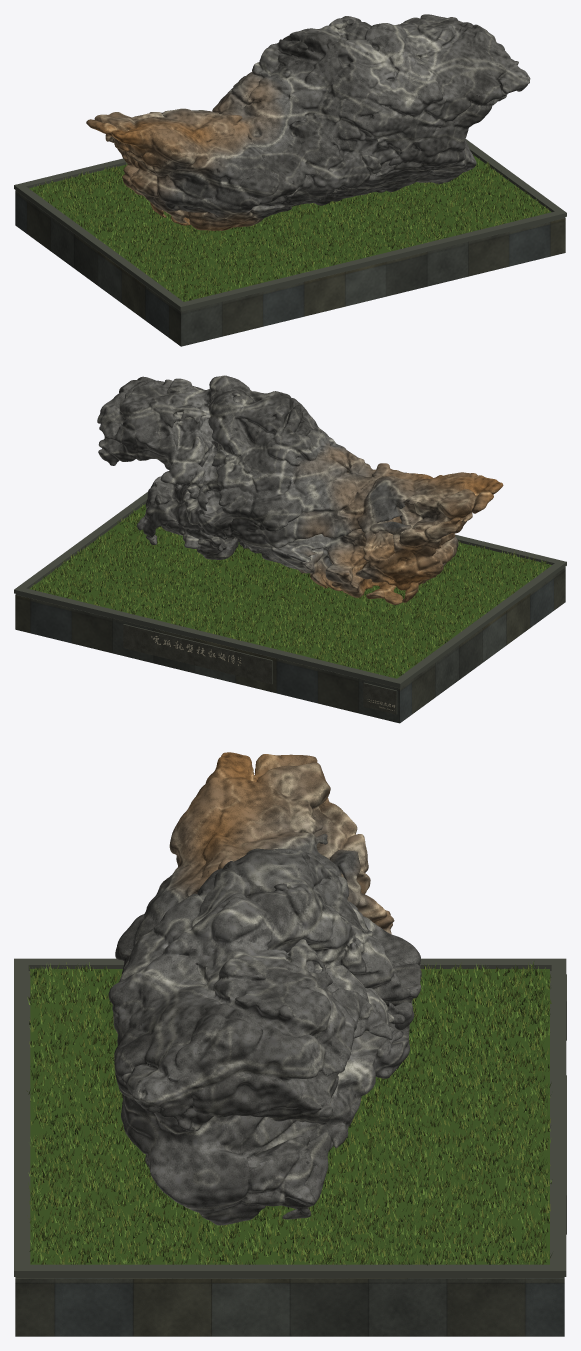
The model's file is landmark.glb.
3 renders of one model, top to bottom at view 1: azimuth 30°, elevation 25°; view 2: azimuth 150°, elevation 25°; view 3: azimuth 270°, elevation 25°, orthographic. The views are drawn at different scales.
Parts seen in each view (by area): view 1: site.taihu.rock, site.taihu.plinth, site.taihu.turf; view 2: site.taihu.plinth, site.taihu.rock, site.taihu.turf, site.taihu.inscription; view 3: site.taihu.plinth, site.taihu.rock, site.taihu.turf.
Boxes of the visible parts, <box> form: site.taihu.rock: <box>86,14,530,230</box>; site.taihu.plinth: <box>14,139,566,346</box>; site.taihu.turf: <box>30,154,548,301</box>; site.taihu.plinth: <box>14,492,566,723</box>; site.taihu.rock: <box>97,375,503,604</box>; site.taihu.turf: <box>31,504,550,677</box>; site.taihu.inscription: <box>123,624,396,714</box>; site.taihu.plinth: <box>14,958,566,1336</box>; site.taihu.rock: <box>108,752,421,1225</box>; site.taihu.turf: <box>26,961,552,1265</box>.
Bounding box in the file's own units: 7.69 × 3.87 × 5.64.
Materials: 11 (3 with a texture image).
